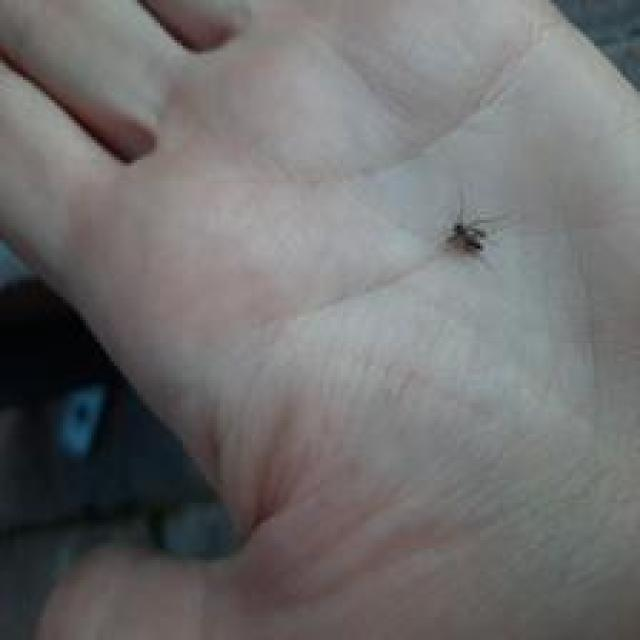Aedes albopictus: (442, 207, 504, 259)
